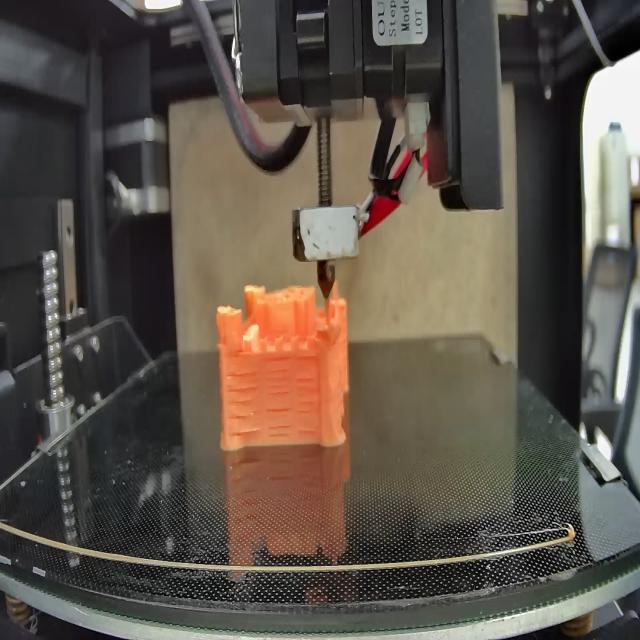cracks: (227, 370, 264, 436), (294, 375, 319, 436), (266, 359, 291, 395), (267, 406, 291, 438), (294, 351, 320, 364)
